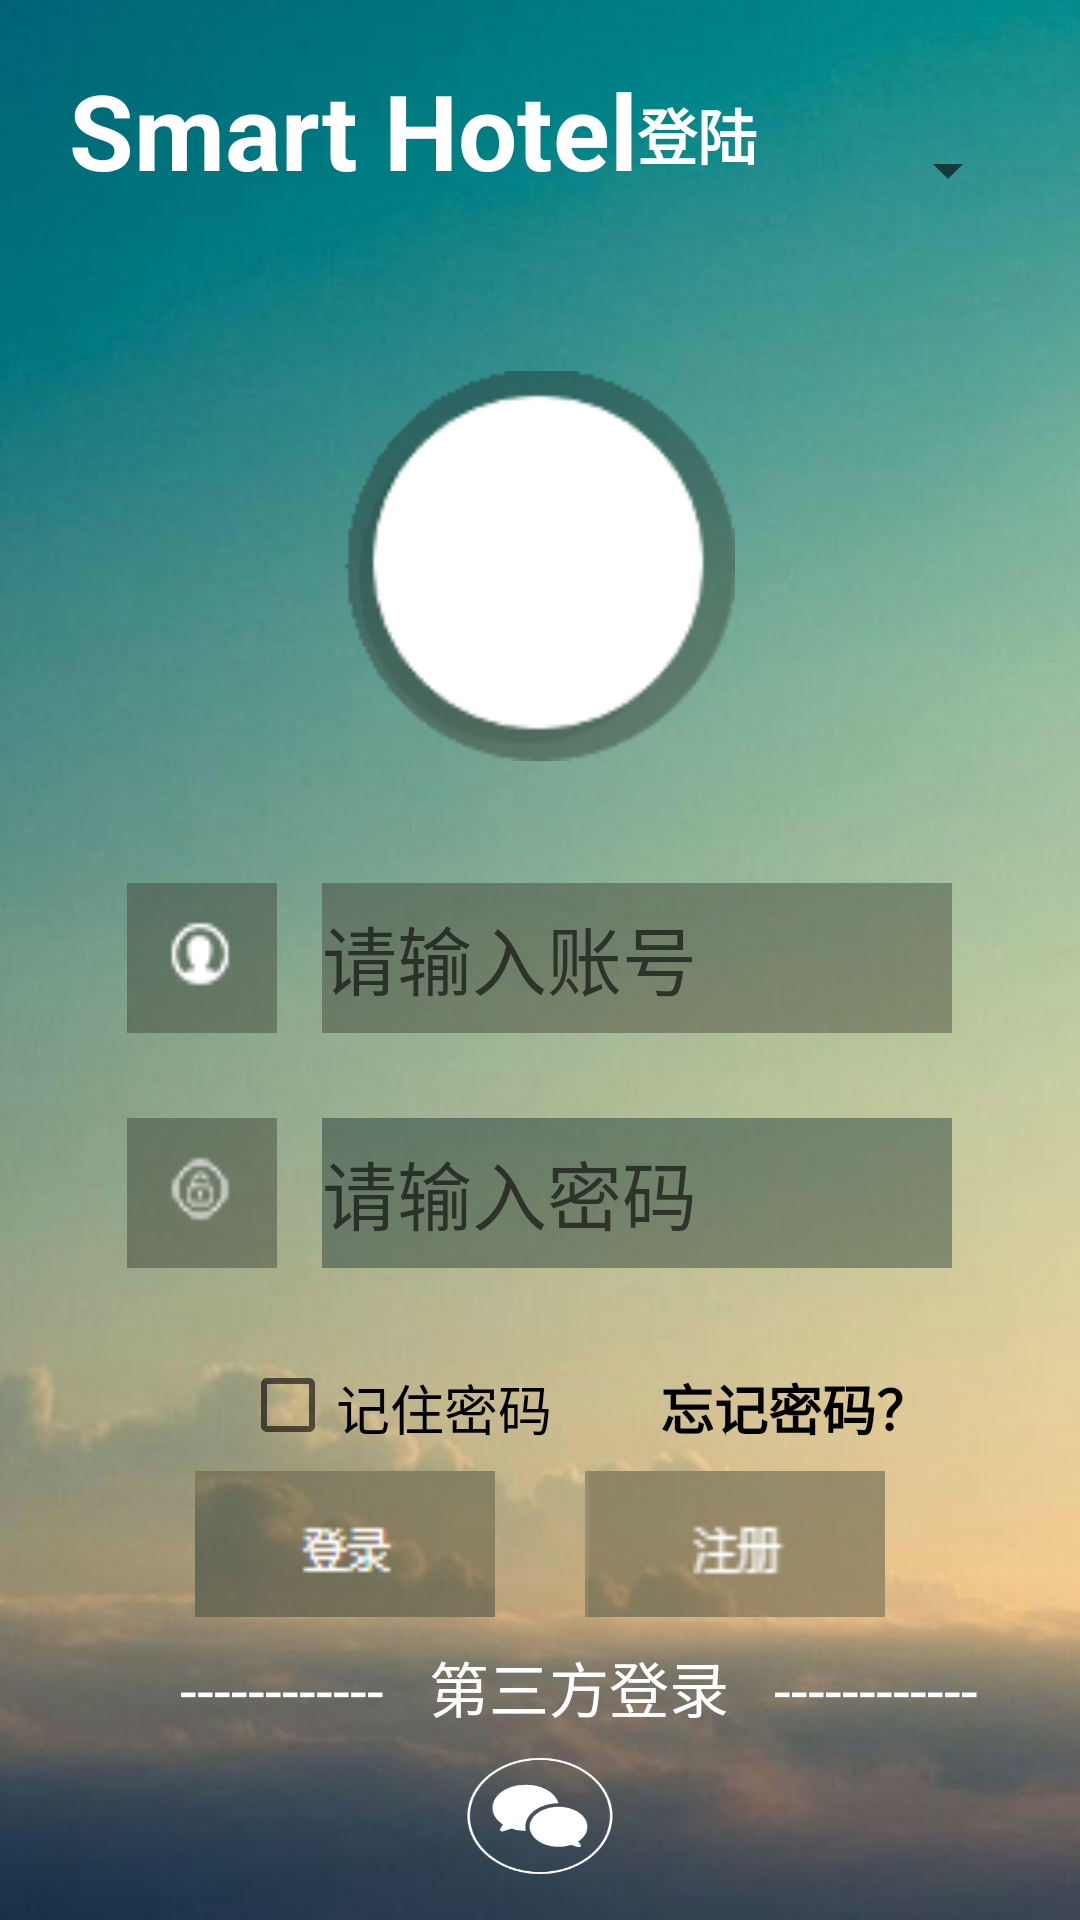

Named icons in this screenshot (1080 × 1920) and their bounding boxes, (x1, y1, x2, y2):
mima: (127, 1118, 277, 1268)
zhanghao: (127, 883, 277, 1033)
